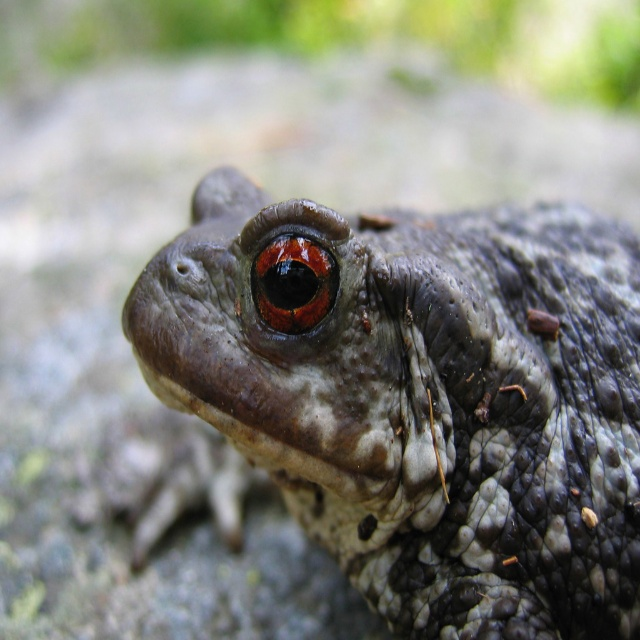Frog: (120, 161, 640, 639)
